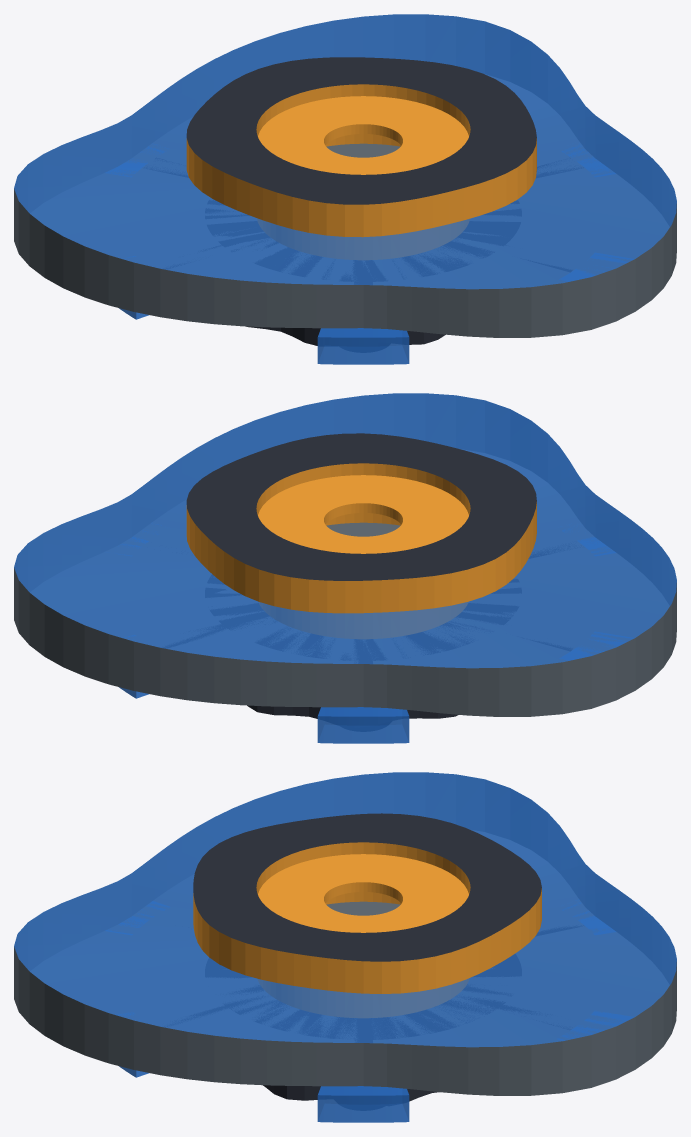
Rendered from assembly_phase2b_assist_air.glb.
The picture shows the model from 3 angles, top to bottom: view 1: azimuth 30°, elevation 25°; view 2: azimuth 150°, elevation 25°; view 3: azimuth 270°, elevation 25°; orthographic projection.
Visible parts, largest first — view 1: GEO_blade_storm_fang_BODY, GEO_core_solar_wolf_BODY, GEO_core_solar_wolf_NSS_V1_COLLAR, GEO_assist_air_HUB, GEO_assist_air_BRIDGE_5, GEO_gear_low_BODY, GEO_blade_storm_fang_NSS_V1_COLLAR; view 2: GEO_blade_storm_fang_BODY, GEO_core_solar_wolf_BODY, GEO_core_solar_wolf_NSS_V1_COLLAR, GEO_assist_air_HUB, GEO_assist_air_BRIDGE_3, GEO_gear_low_BODY, GEO_blade_storm_fang_NSS_V1_COLLAR; view 3: GEO_blade_storm_fang_BODY, GEO_core_solar_wolf_BODY, GEO_core_solar_wolf_NSS_V1_COLLAR, GEO_assist_air_HUB, GEO_assist_air_BRIDGE_1, GEO_gear_low_BODY, GEO_blade_storm_fang_NSS_V1_COLLAR.
Boxes of the visible parts, x1,y1,x2,y2 form: GEO_blade_storm_fang_BODY: (14,14,676,337); GEO_core_solar_wolf_BODY: (186,57,536,237); GEO_core_solar_wolf_NSS_V1_COLLAR: (258,96,468,174); GEO_assist_air_HUB: (205,200,521,281); GEO_assist_air_BRIDGE_5: (317,328,409,364); GEO_gear_low_BODY: (245,326,445,345); GEO_blade_storm_fang_NSS_V1_COLLAR: (326,143,400,157); GEO_blade_storm_fang_BODY: (14,393,676,716); GEO_core_solar_wolf_BODY: (186,433,536,613); GEO_core_solar_wolf_NSS_V1_COLLAR: (258,475,468,553); GEO_assist_air_HUB: (205,574,521,660); GEO_assist_air_BRIDGE_3: (317,707,409,743); GEO_gear_low_BODY: (247,705,458,718); GEO_blade_storm_fang_NSS_V1_COLLAR: (326,522,400,536); GEO_blade_storm_fang_BODY: (14,772,676,1095); GEO_core_solar_wolf_BODY: (193,813,541,993); GEO_core_solar_wolf_NSS_V1_COLLAR: (258,854,468,932); GEO_assist_air_HUB: (205,954,521,1039); GEO_assist_air_BRIDGE_1: (317,1086,409,1122); GEO_gear_low_BODY: (263,1085,439,1101); GEO_blade_storm_fang_NSS_V1_COLLAR: (326,901,400,915).
Size of the model in its own units: 0.0647 by 0.0235 by 0.0669.
